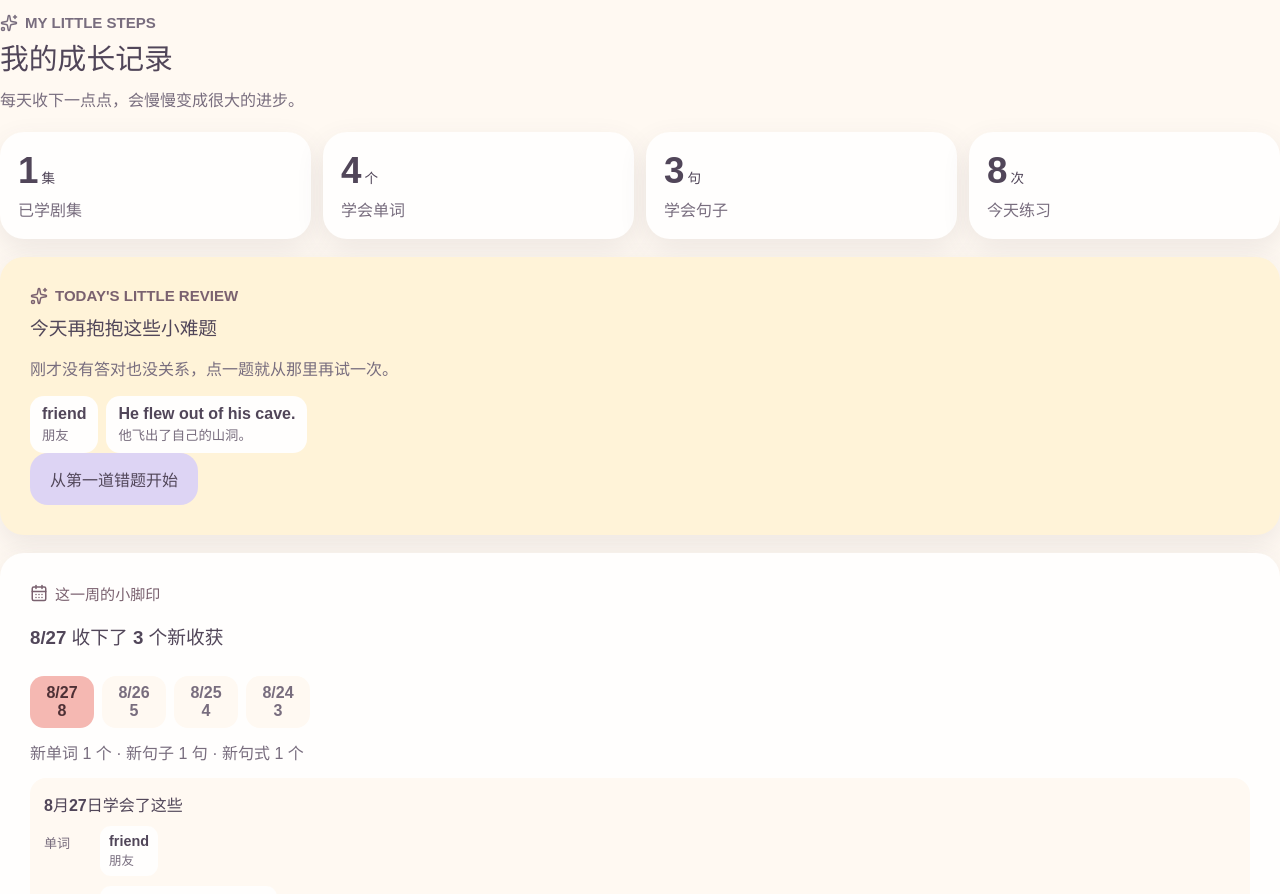
Scenario: GrowthRecord › opens the matching detailed collection from a summary card
Click the button with aria-label "查看已学句子清单" at (696, 210), box top-left (646, 132), bottom-right (957, 239)
(page scrolled)
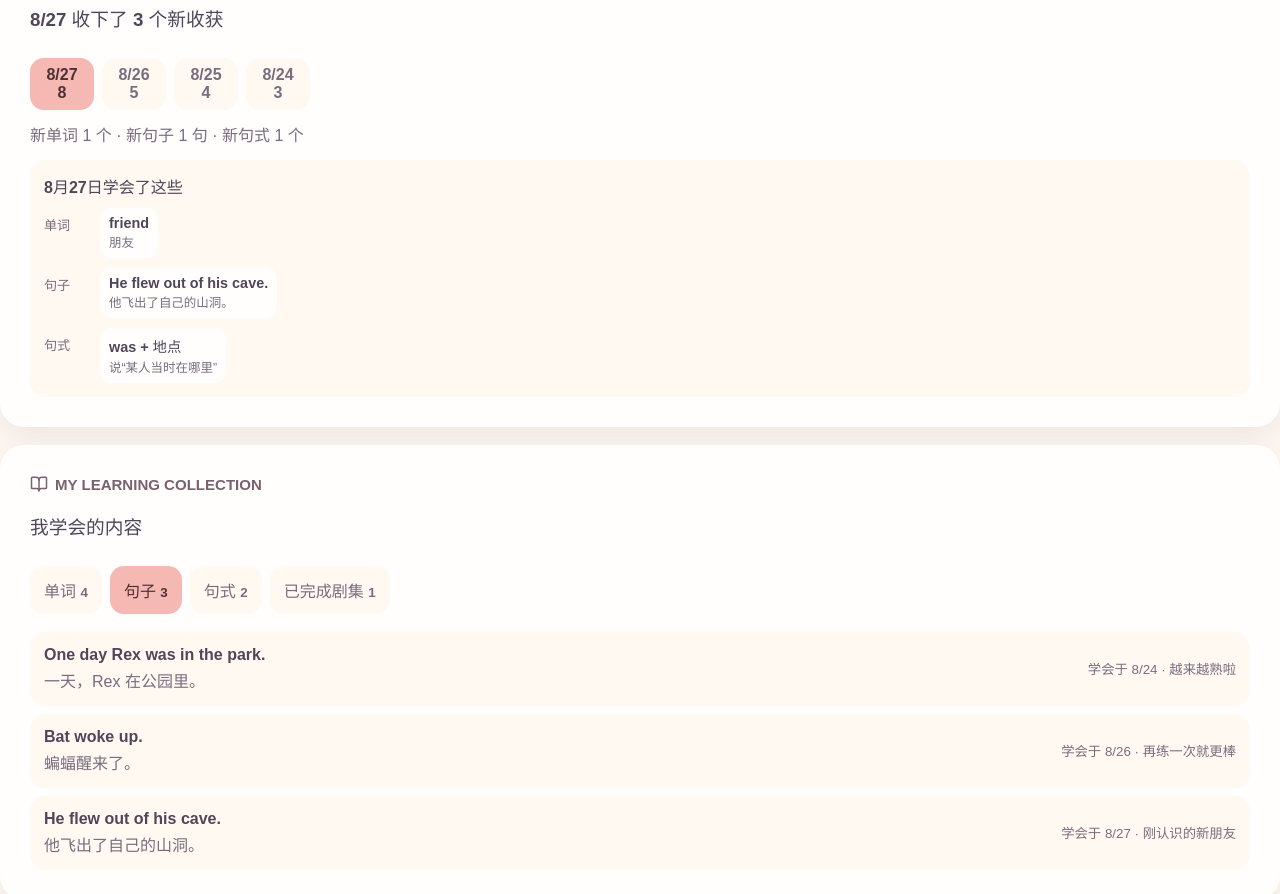
Expected: the text "Bat woke up." is shown, top-left (44, 728), bottom-right (143, 746)
